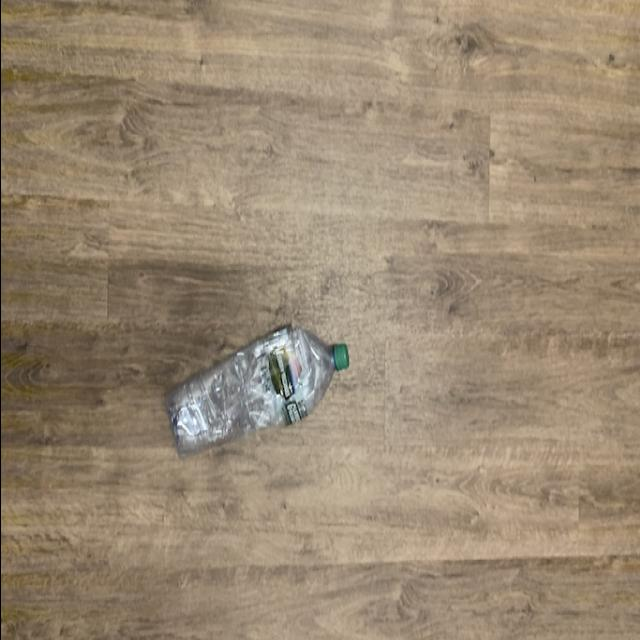litter: (163, 324, 350, 464)
